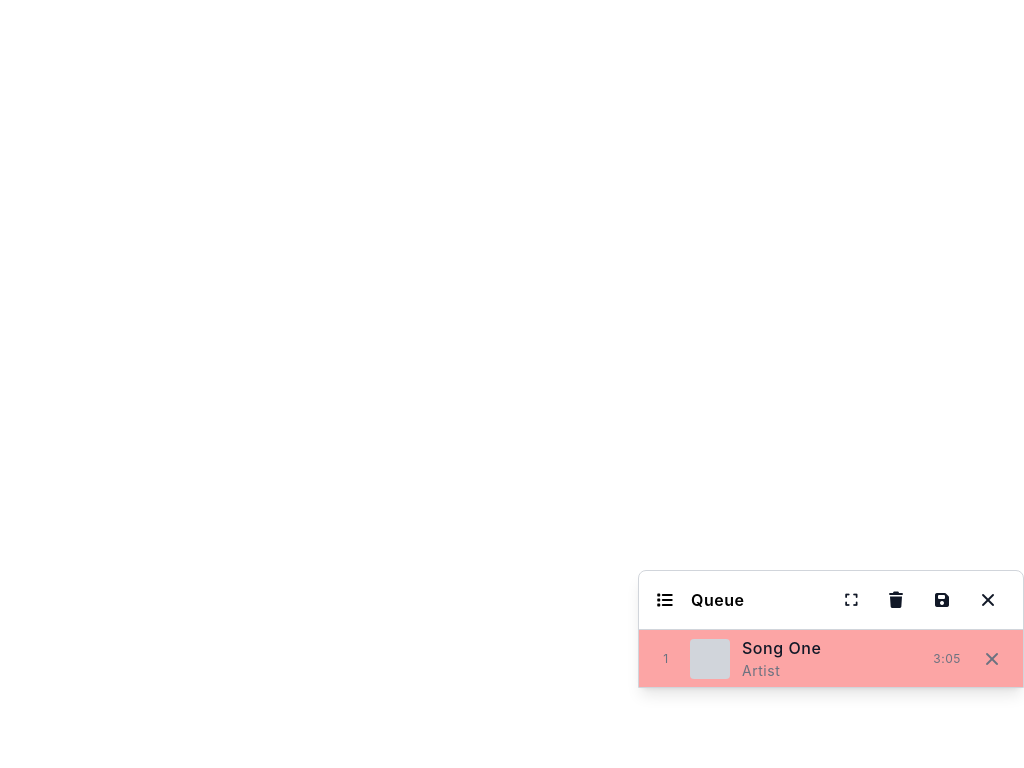
Scenario: QueuePanel › shows the API error when playlist creation fails
The image size is (1024, 768).
Click the button named "Save queue as playlist".
click(942, 600)  # box [923,583,961,617]
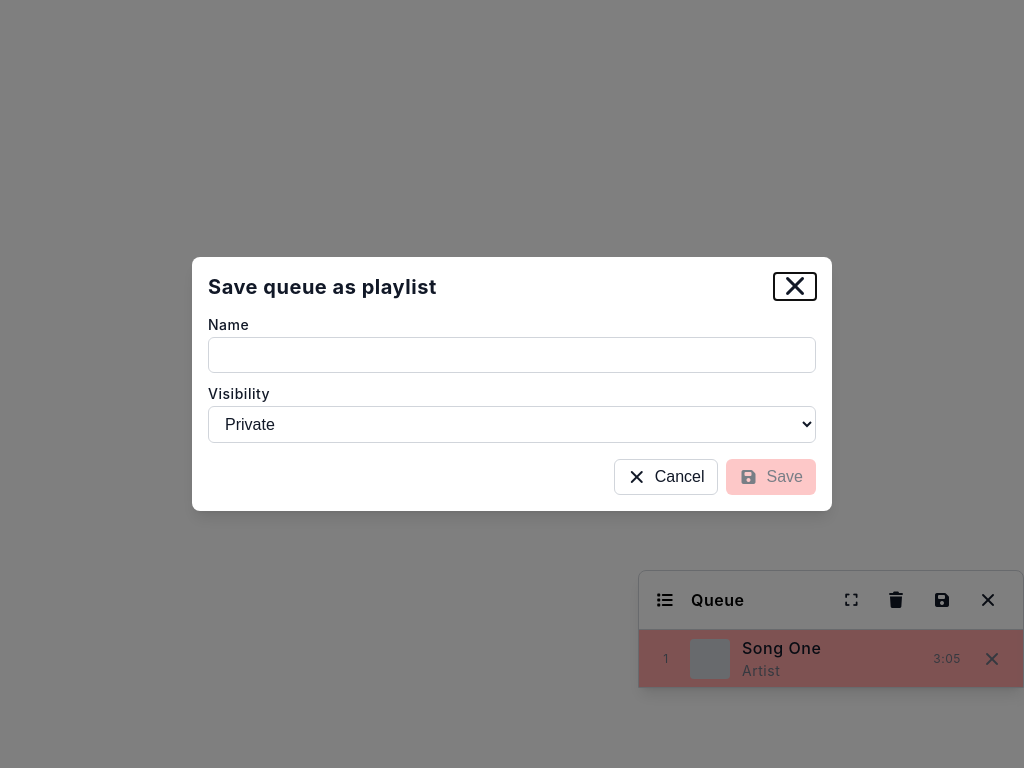
Type "Failing" into the field labelled "Name".
click(512, 355); type("Failing")  # box [208,337,816,373]
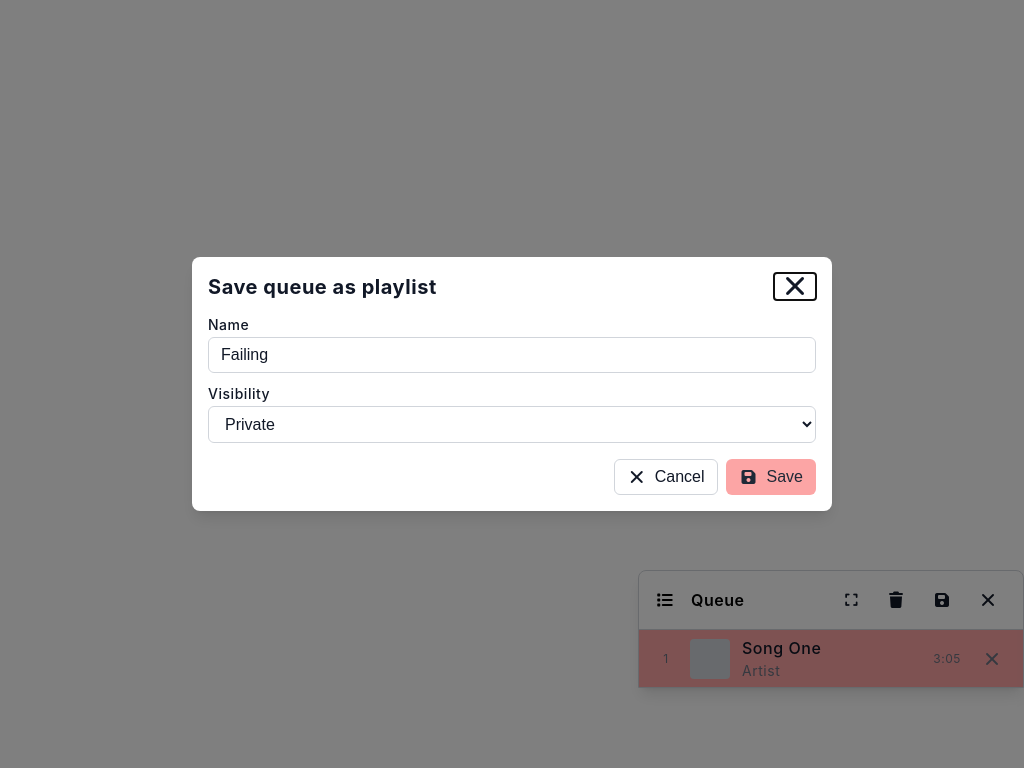
Click the button "Save".
click(771, 477)  # box [726,459,816,495]
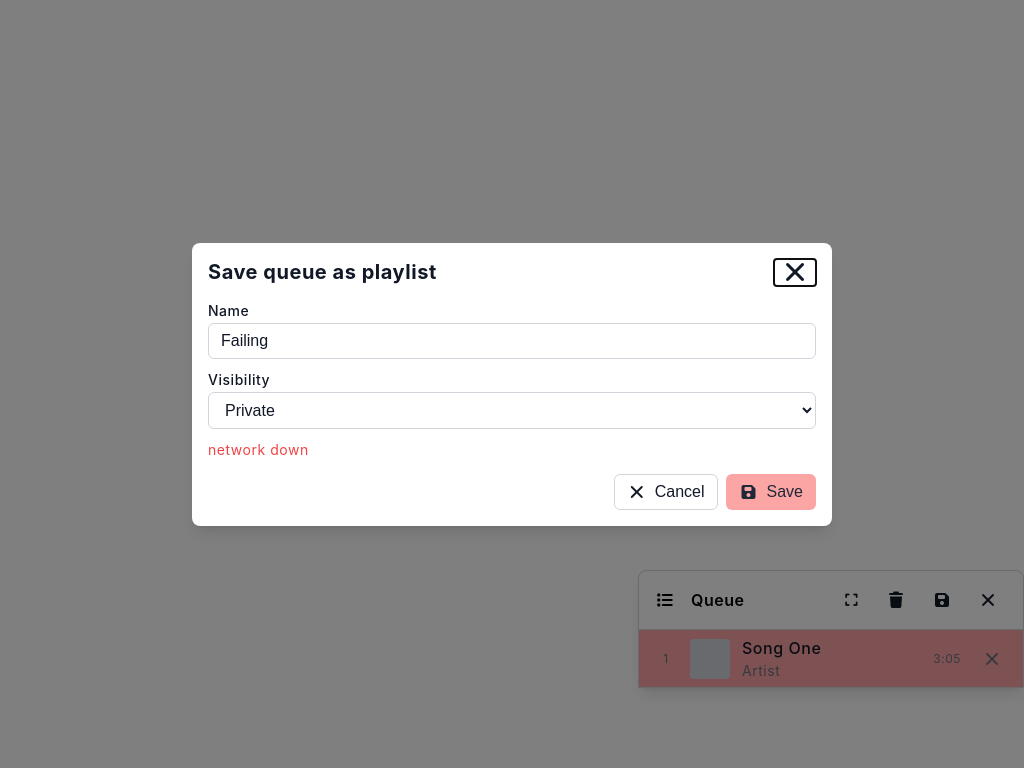
Result: the message "network down" is shown at [208,440,309,458]
